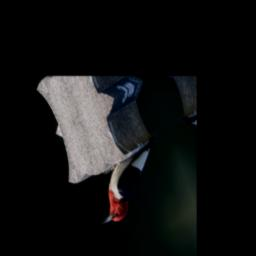Woodpecker: (81, 126, 179, 233)
